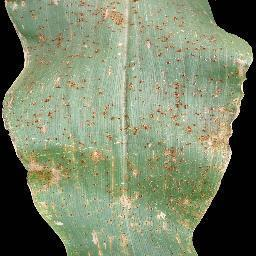Corn_Common_Rust: (127, 0, 254, 256), (0, 0, 127, 255)
